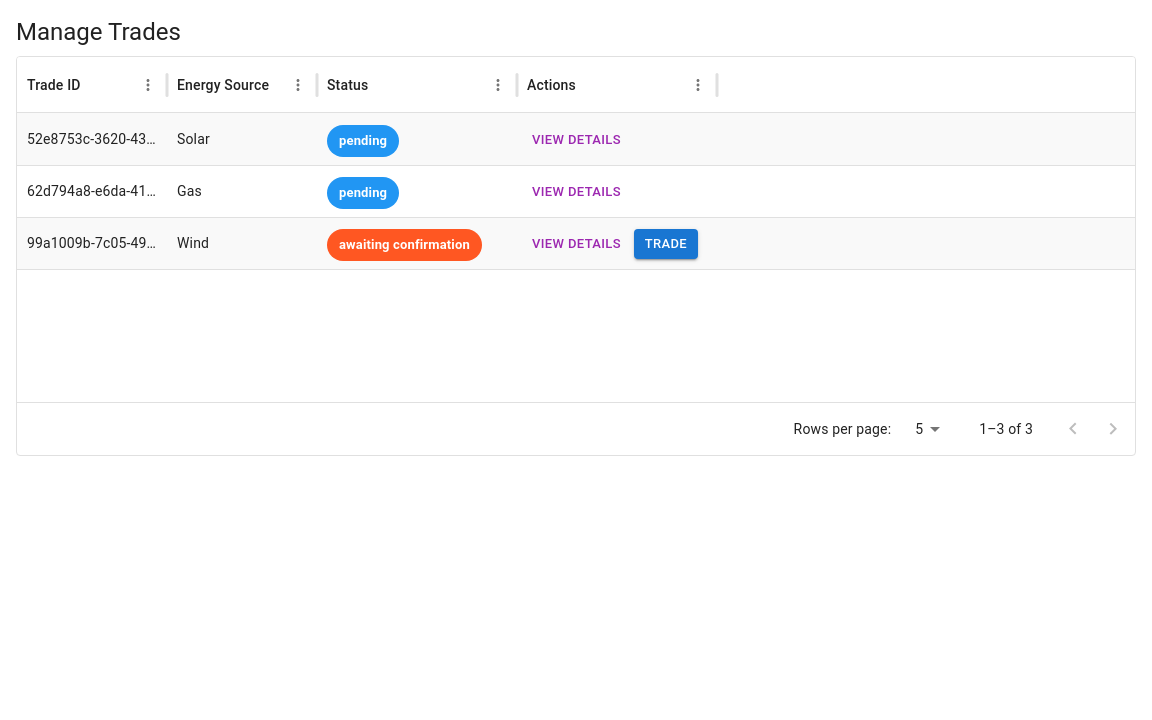
Scenario: TradeManager › opens TradeDetailDialog when "View Details" is clicked for the first trade
Click the button with aria-label "View this trade's details" at (576, 140), box [527,124,626,155]
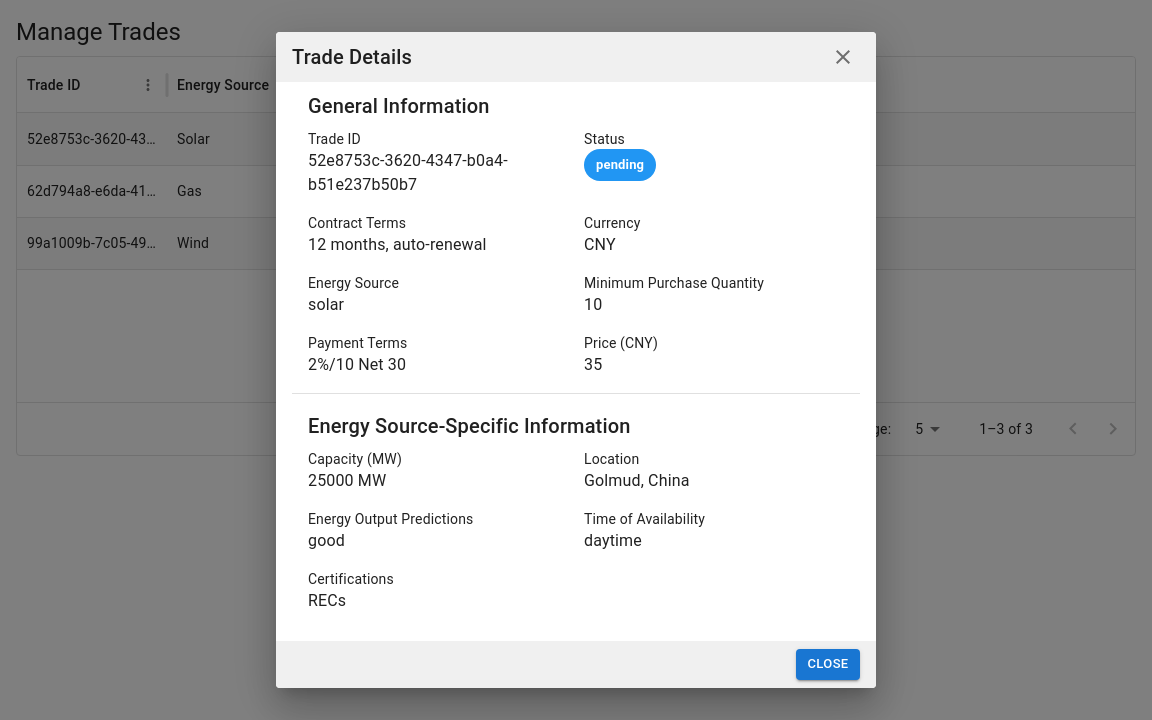
Expected: the heading "Trade Details" is shown, [292,41,412,73]
